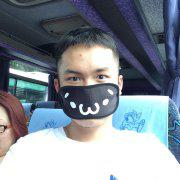WRONG: (57, 67, 119, 129)
